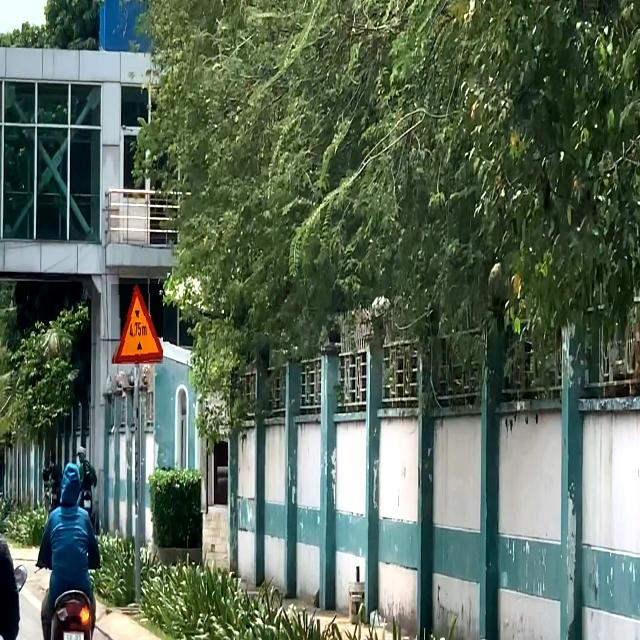bien_nguy_hiem: (111, 284, 163, 364)
